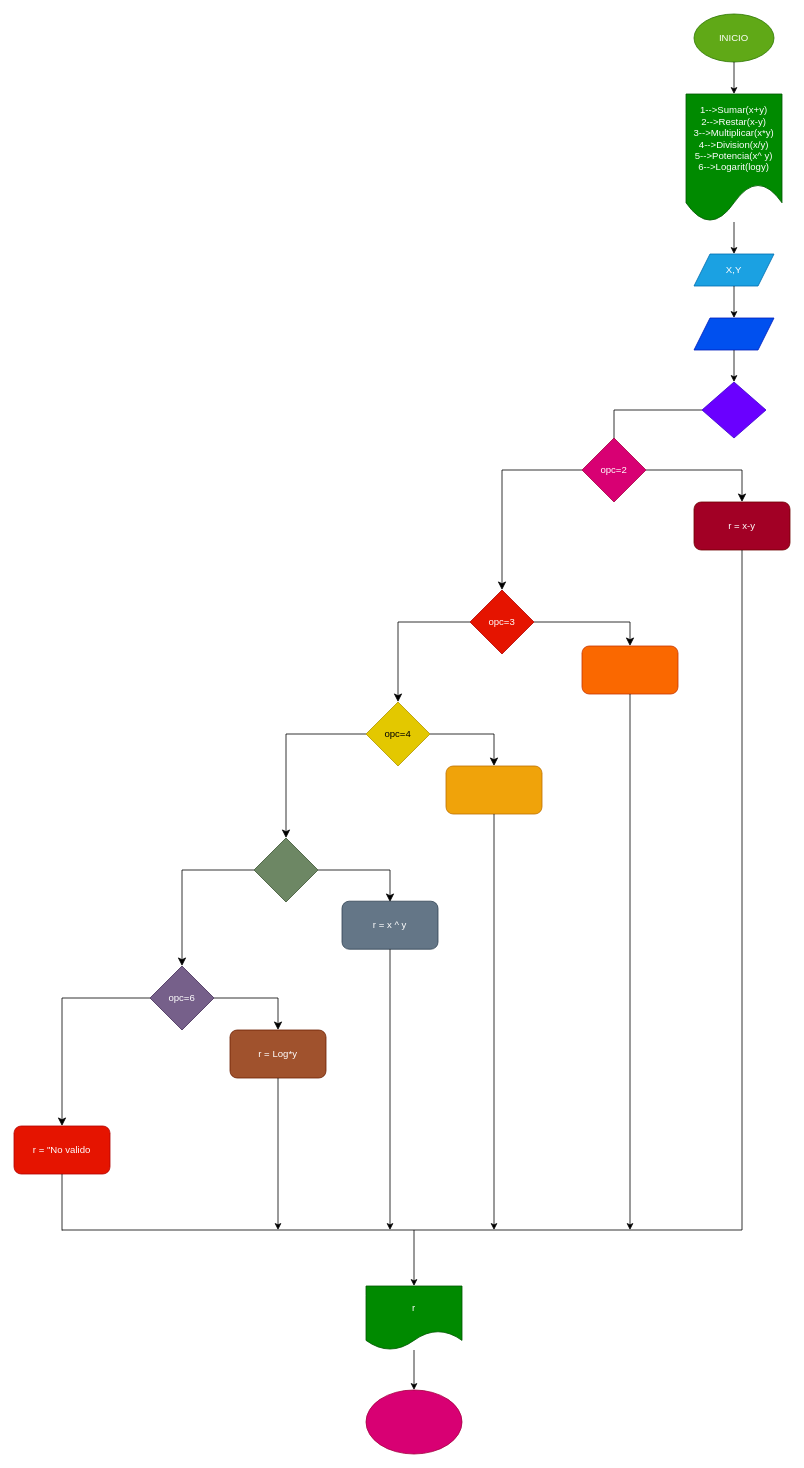
Image size: 804x1468. Some labels were removed from this diagram. Each missing label, with the centre of its shape:
"FIN" belongs at point 413,1421.
"opc" belongs at point 733,333.
"opc=1" belongs at point 733,409.
"opc=5" belongs at point 285,869.
"r = x*y" belongs at point 629,669.
"r = x/y" belongs at point 493,789.
